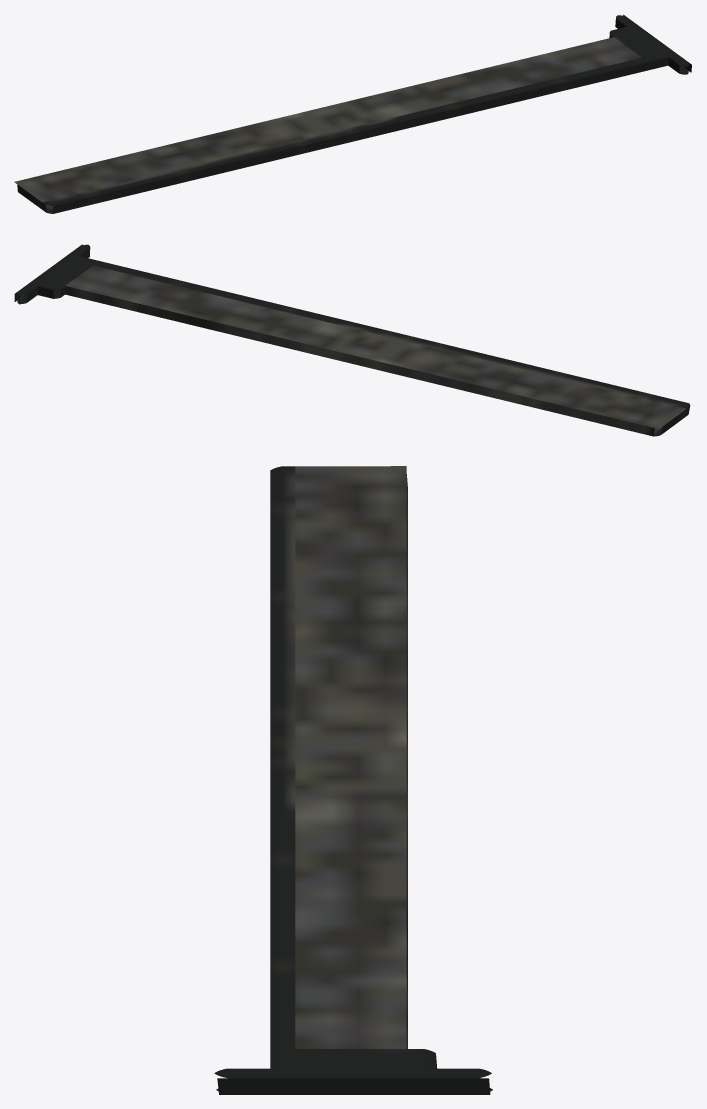
Rendered from SM_EC_Fence_Part_55.fbx.
3 renders of one model, top to bottom at view 1: azimuth 30°, elevation 25°; view 2: azimuth 150°, elevation 25°; view 3: azimuth 270°, elevation 25°, orthographic. The views are drawn at different scales.
Visible parts, largest first — view 1: SM_EC_Fence_Part_55; view 2: SM_EC_Fence_Part_55; view 3: SM_EC_Fence_Part_55.
Part boxes in pixels (<box>): SM_EC_Fence_Part_55: <box>14,14,691,213</box>; SM_EC_Fence_Part_55: <box>14,244,690,436</box>; SM_EC_Fence_Part_55: <box>214,466,492,1094</box>.
Bounding box in the file's own units: 0.9726 × 0.1885 × 0.015.
